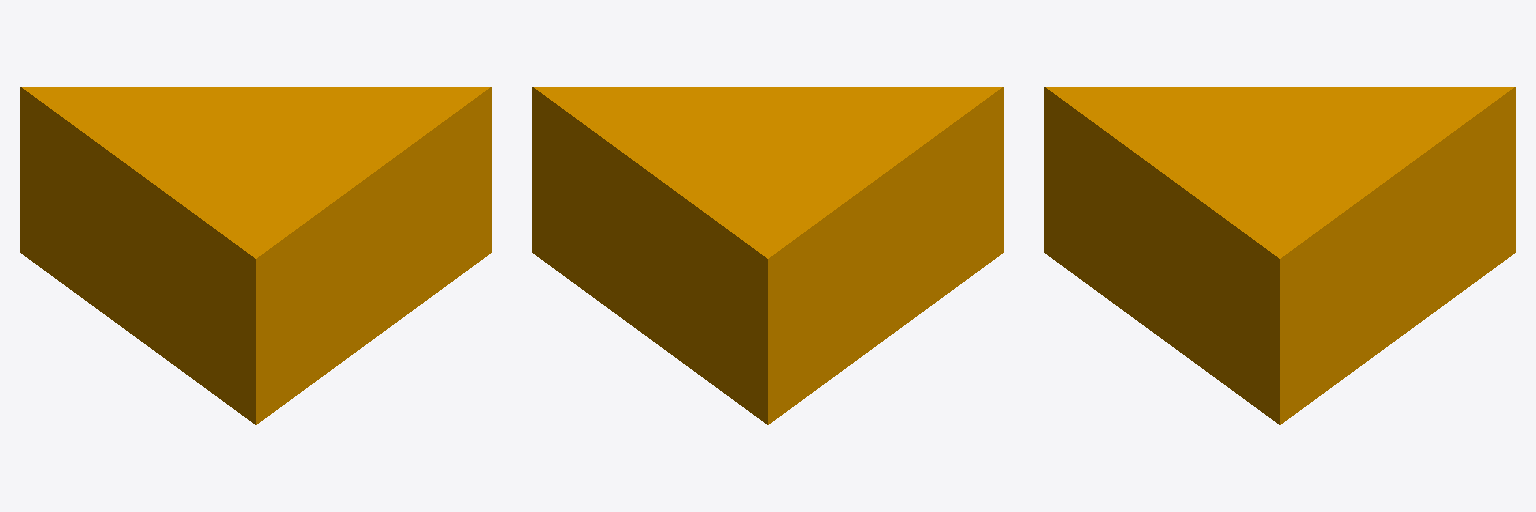
The robot description file, URDF, robot "target_box":
<?xml version="1.0" encoding="utf-8"?>
<!-- =================================================================================== -->
<!-- |    This document was autogenerated by xacro from cube.urdf.xacro               | -->
<!-- |    EDITING THIS FILE BY HAND IS NOT RECOMMENDED                                 | -->
<!-- =================================================================================== -->
<robot name="target_box">
  <link name="target_link">
    <visual>
      <origin rpy="0 0 0" xyz="0 0 0" />
      <geometry>
        <mesh filename="package://grf_transport/models/triangular_prism/triangular_prism.stl" scale="1.0 1.0 1.0" />
      </geometry>
    </visual>
    <inertial>
      <origin xyz="0 0 0" rpy="0 0 0" />
      <mass value="0.3" />
      <inertia ixx="0.001700" ixy="0.0" ixz="0.0" iyy="0.001700" iyz="0.0" izz="0.001700" />
    </inertial>
  </link>
  
  <gazebo reference="target_link">
    <static>true</static>
    <gravity>false</gravity>
    <!-- <selfCollide>true</selfCollide> -->
    <material>Gazebo/GreenTransparent</material>
  </gazebo>
</robot>

--- Render facts (derived) ---
3 views of the same robot in one strip: view 1: azimuth 30°, elevation 25°; view 2: azimuth 150°, elevation 25°; view 3: azimuth 270°, elevation 25° (orthographic).
Robot: target_box — 1 links, 0 joints (none); root link target_link; default pose: all joints at 0.
Links seen in each view (by area): view 1: target_link; view 2: target_link; view 3: target_link.
Link boxes in pixels (box(x1,y1,x2,y2)): target_link: box(20, 87, 491, 424); target_link: box(532, 87, 1003, 424); target_link: box(1044, 87, 1515, 424).
Size in the robot's own frame: 0.48 by 0.5543 by 0.216 metres.
1 mesh visuals loaded from 1 distinct referenced files (1 binary STL).